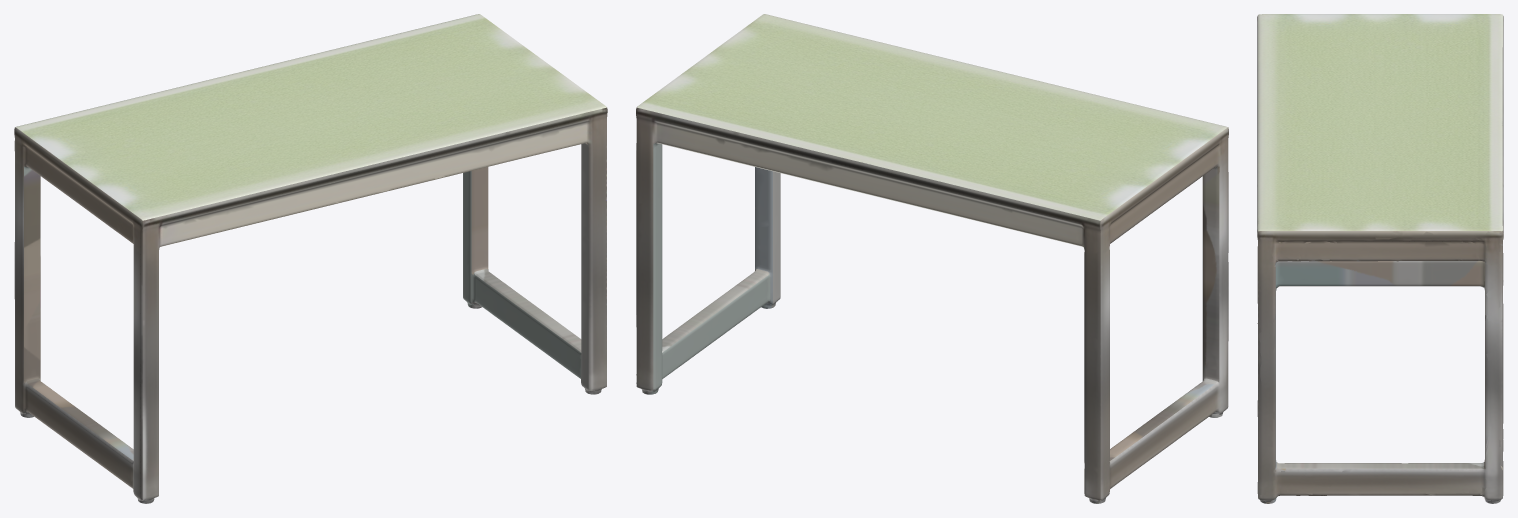
Rendered from desk__desk#2.glb.
3 views of the same model, side by side, from view 1: azimuth 30°, elevation 25°; view 2: azimuth 150°, elevation 25°; view 3: azimuth 270°, elevation 25° (orthographic). The views are drawn at different scales.
Visible parts, largest first — view 1: tmpdru2183a.ply; view 2: tmpdru2183a.ply; view 3: tmpdru2183a.ply.
Part boxes in pixels (x1,y1,x2,y2): tmpdru2183a.ply: [14, 14, 607, 503]; tmpdru2183a.ply: [636, 14, 1228, 503]; tmpdru2183a.ply: [1257, 14, 1503, 503].
Size of the model in its own units: 1.99 by 1.17 by 0.9516.
1 material, 1 textured.
